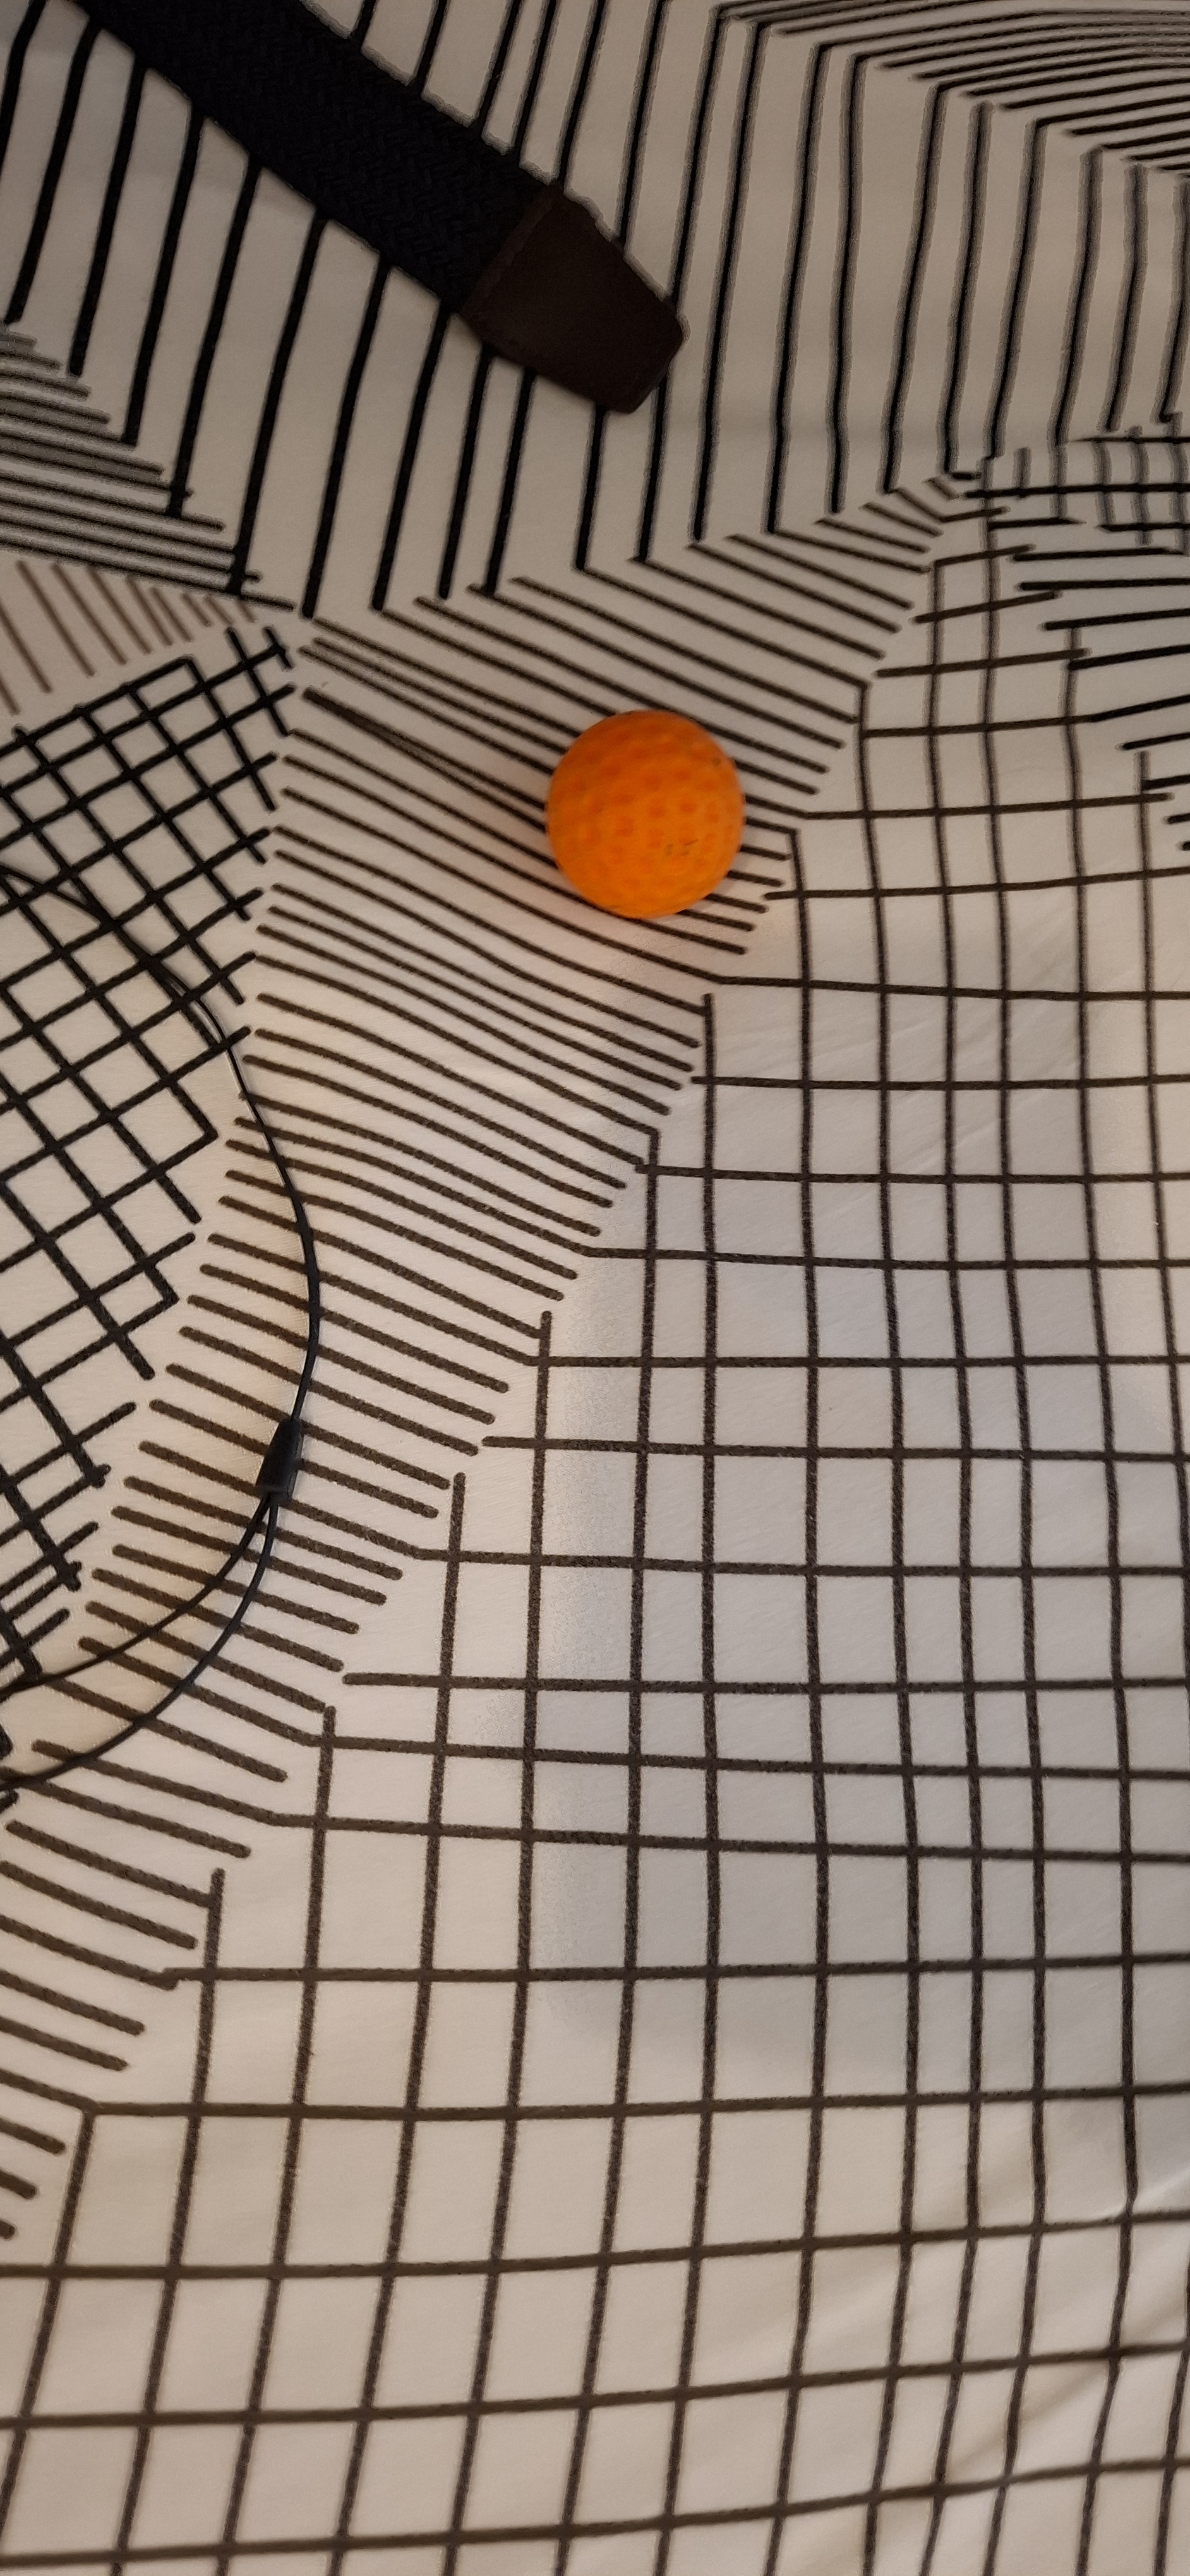ball: (325, 971, 424, 1396)
